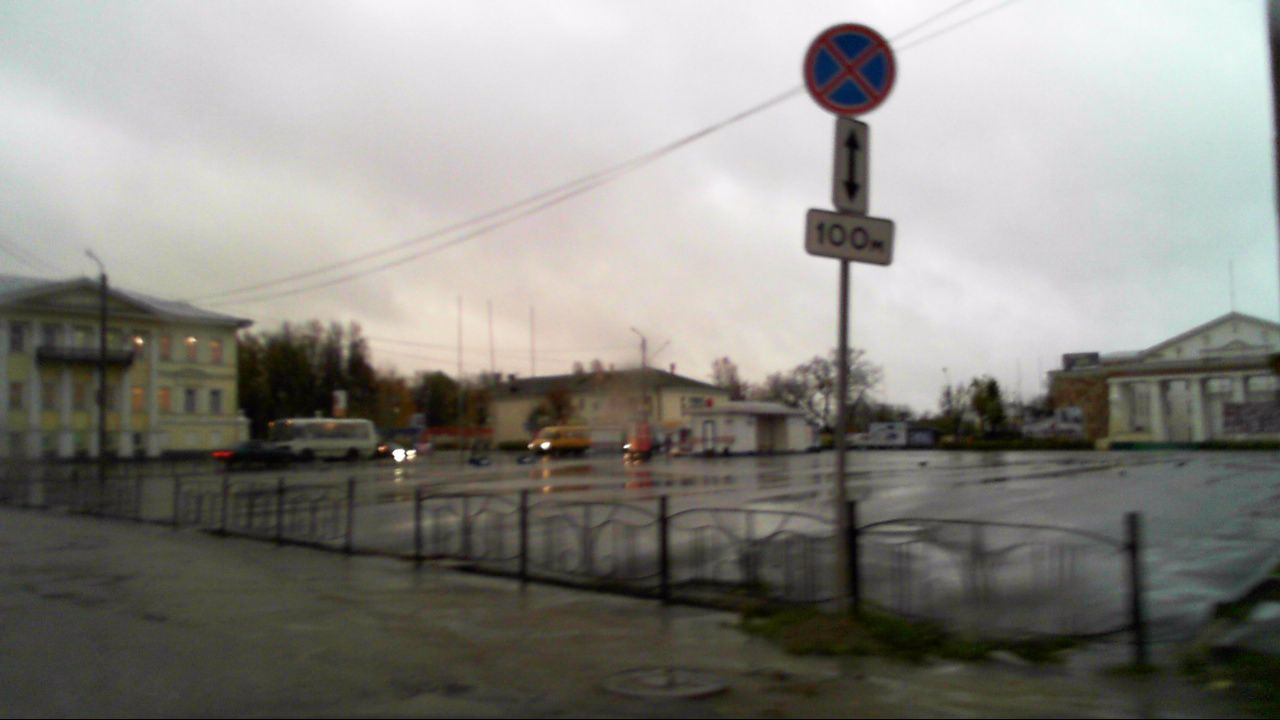No Parking: (805, 24, 894, 114)
